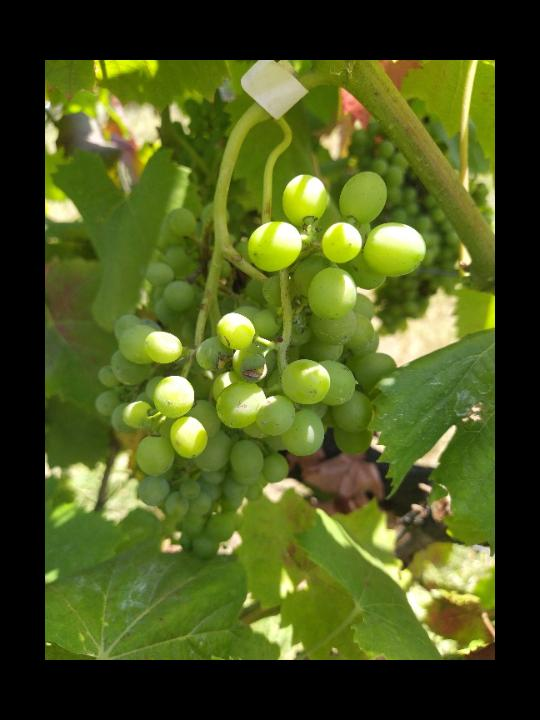grape: (94, 170, 427, 560)
